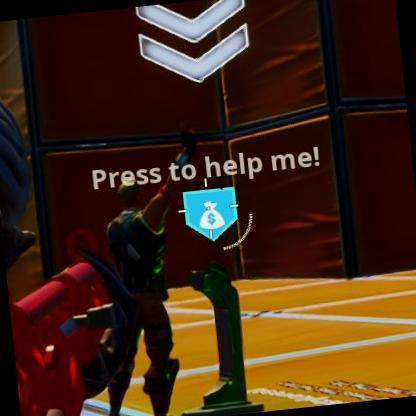person: (98, 150, 192, 416)
